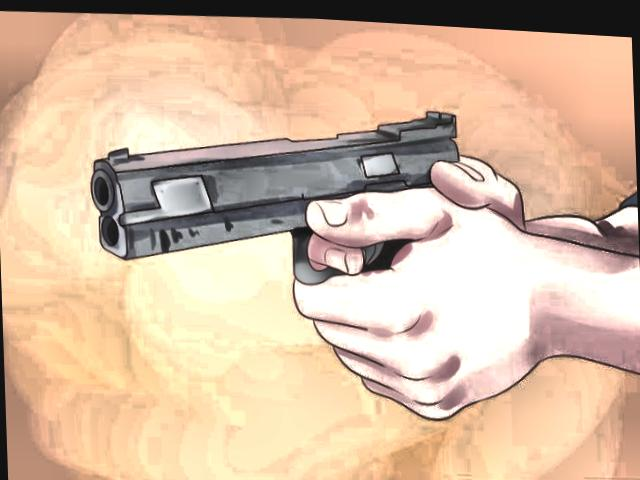pistol: (86, 87, 464, 296)
